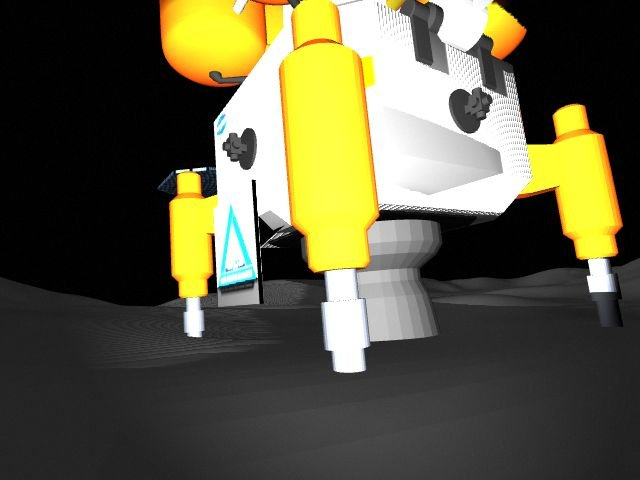basemarker: (217, 203, 257, 288)
